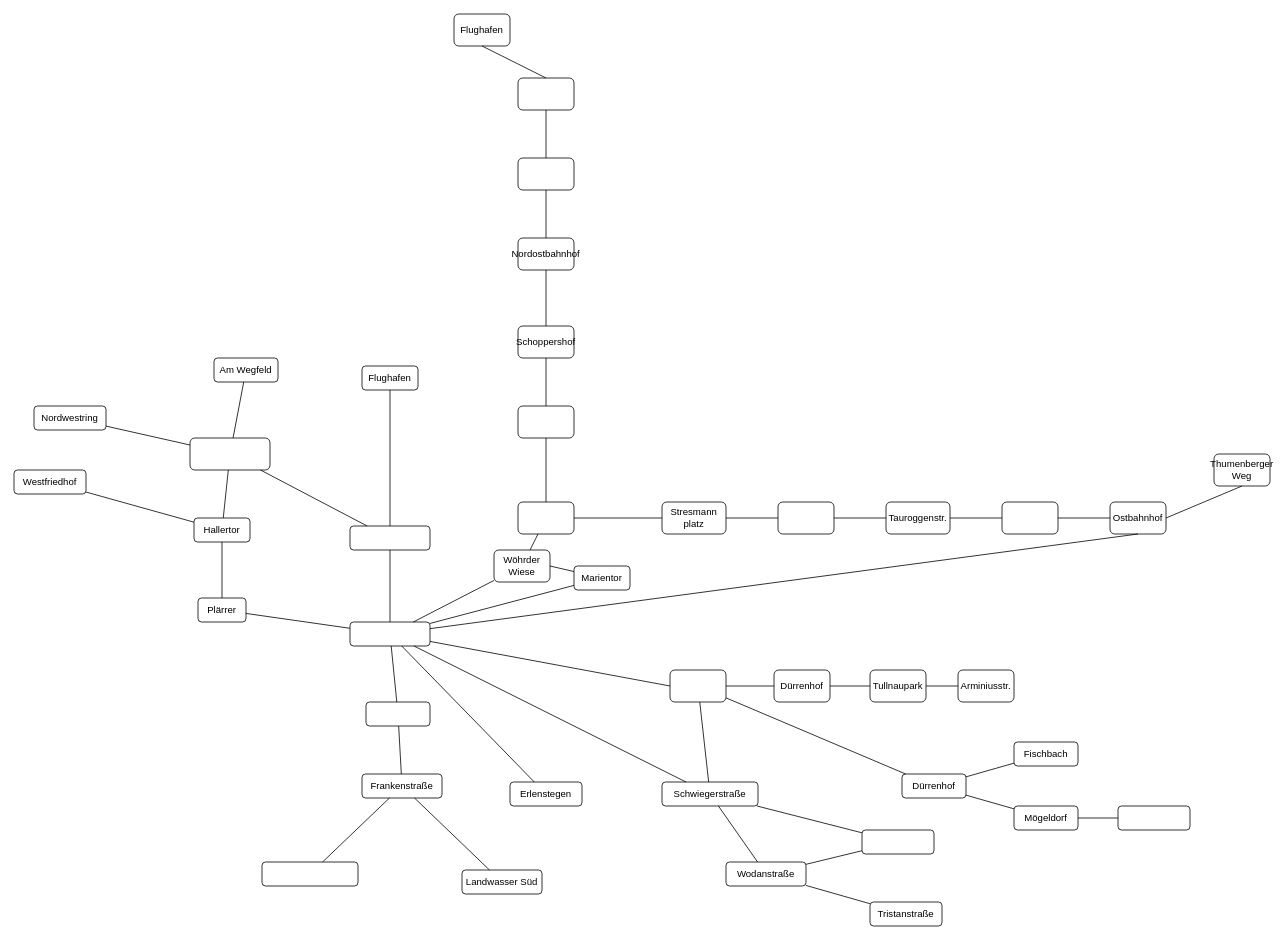
This 1286x940 diagram has some shape labels left out. The centre of each missing label's shape, as x and y in pixels:
"Aufseßplatz" goes at pixel 397 713.
"Deichsler str-" goes at pixel 805 517.
"Dudzenteich" goes at pixel 897 841.
"Friedrich-Ebert- Platz" goes at pixel 229 453.
"Hauptbahnhof" goes at pixel 389 633.
"Herrnhütte" goes at pixel 545 173.
"Laufamholz" goes at pixel 1153 817.
"Marientunnel" goes at pixel 697 685.
"Rathenau platz" goes at pixel 545 517.
"Rathenauplatz" goes at pixel 389 537.
"Rennweg" goes at pixel 545 421.
"Tafelhalle" goes at pixel 1029 517.
"Worzeldorfer Straße" goes at pixel 309 873.
"Ziegelstein" goes at pixel 545 93.
